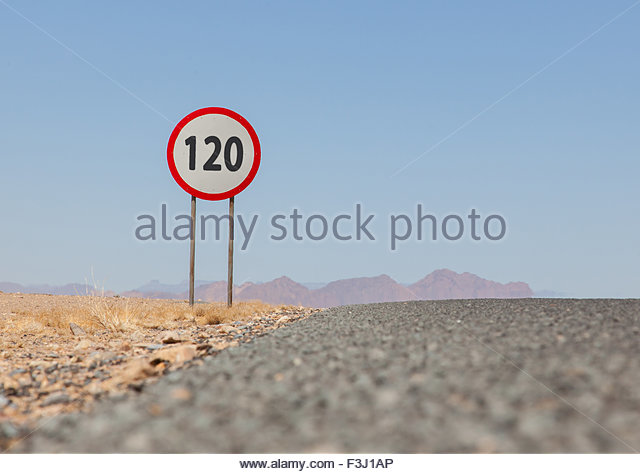Speed_limit_120km: (166, 105, 262, 202)
